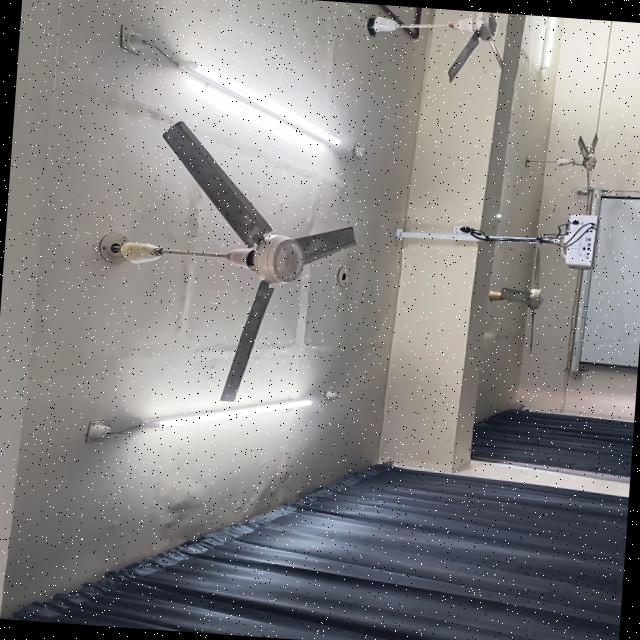Light: (119, 24, 340, 145), (86, 397, 312, 441), (540, 15, 557, 68)
Projector: (562, 214, 597, 268)
